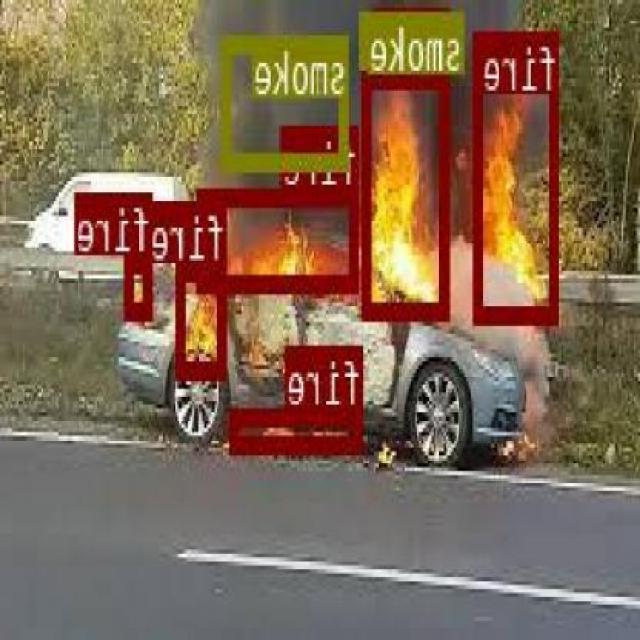Fire: (474, 30, 560, 318), (364, 71, 452, 317), (199, 189, 361, 289), (178, 261, 230, 374), (232, 406, 365, 448), (126, 252, 154, 318)
Smoke: (224, 34, 350, 168), (362, 10, 466, 64)
